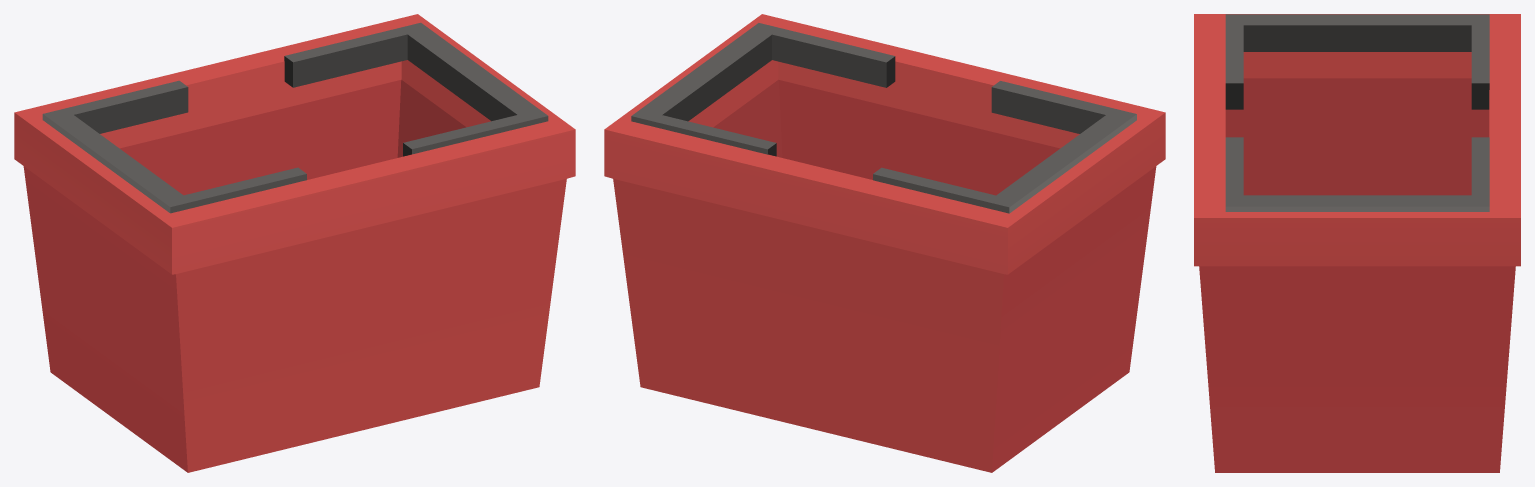
The model's file is Basket2.glb.
The picture shows the model from 3 angles, left to right: view 1: azimuth 30°, elevation 25°; view 2: azimuth 150°, elevation 25°; view 3: azimuth 270°, elevation 25°; orthographic projection. The views are drawn at different scales.
Visible parts, largest first — view 1: SI_Prop_Basket_HandleDown_02; view 2: SI_Prop_Basket_HandleDown_02; view 3: SI_Prop_Basket_HandleDown_02.
Boxes of the visible parts, x1,y1,x2,y2 form: SI_Prop_Basket_HandleDown_02: [14, 14, 575, 472]; SI_Prop_Basket_HandleDown_02: [604, 14, 1165, 472]; SI_Prop_Basket_HandleDown_02: [1194, 14, 1520, 472].
Bounding box in the file's own units: 0.0104 × 0.00654 × 0.00706.
Materials: 1 (1 with a texture image).
